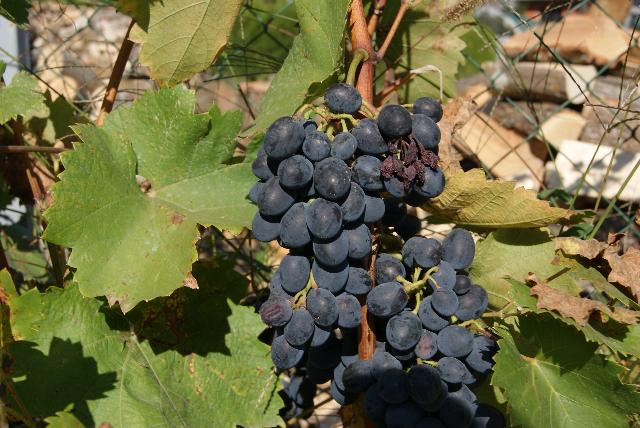grapes: (250, 69, 445, 369), (345, 229, 505, 428)
